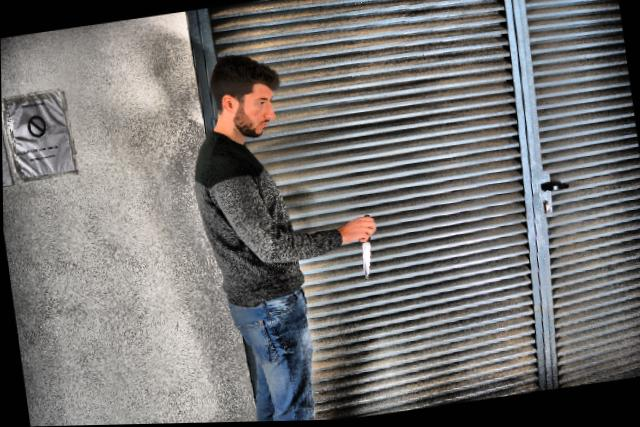knife: (351, 211, 383, 282)
